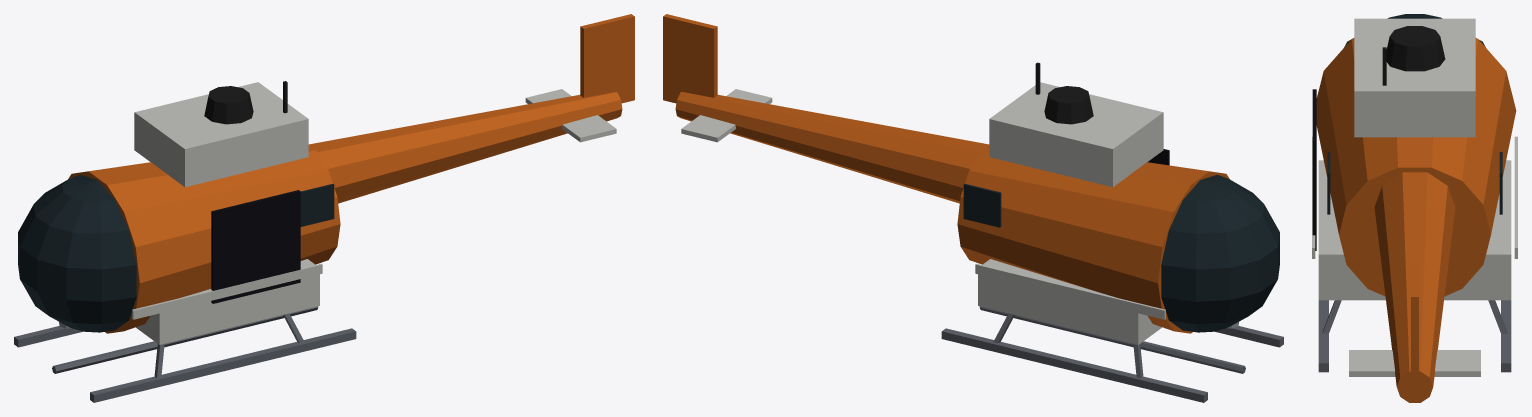
The model's file is helicopter_body.glb.
The picture shows the model from 3 angles, left to right: view 1: azimuth 30°, elevation 25°; view 2: azimuth 150°, elevation 25°; view 3: azimuth 270°, elevation 25°; orthographic projection. The views are drawn at different scales.
Parts seen in each view (by area): view 1: helicopter_body; view 2: helicopter_body; view 3: helicopter_body.
Boxes of the visible parts, bbox=[...] form: helicopter_body: bbox=[14, 14, 634, 402]; helicopter_body: bbox=[663, 14, 1283, 402]; helicopter_body: bbox=[1312, 14, 1517, 402].
Size of the model in its own units: 8.3 by 3.25 by 2.03.
